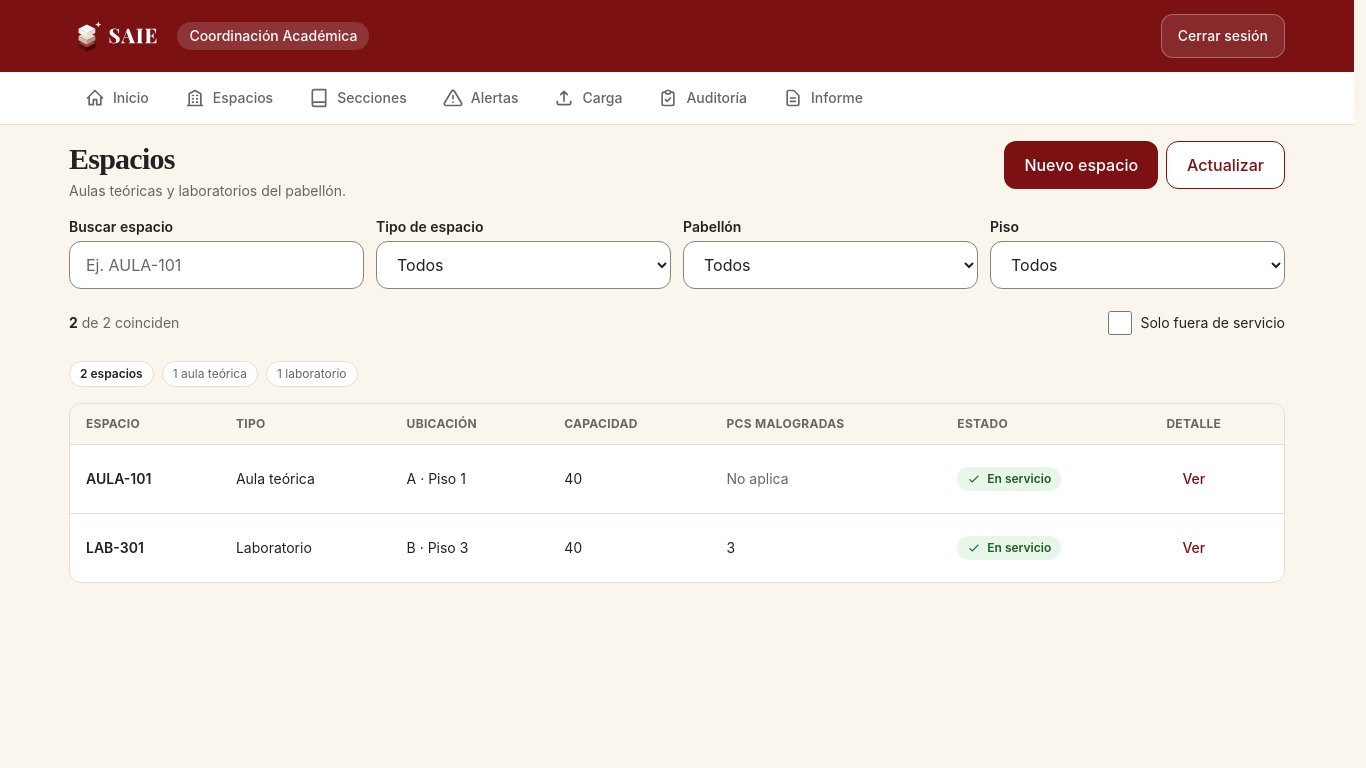
Test: Gestión de espacios (Issue 4.15) › filtra por pabellón y piso, y limpia los filtros
The width and height of the screenshot is (1366, 768).
Expected: the text "AULA-101" is shown, x1=70 y1=444 x2=220 y2=514
Select "B" in the dropdown labelled "Pabellón" at (830, 265), box x1=683 y1=241 x2=978 y2=289
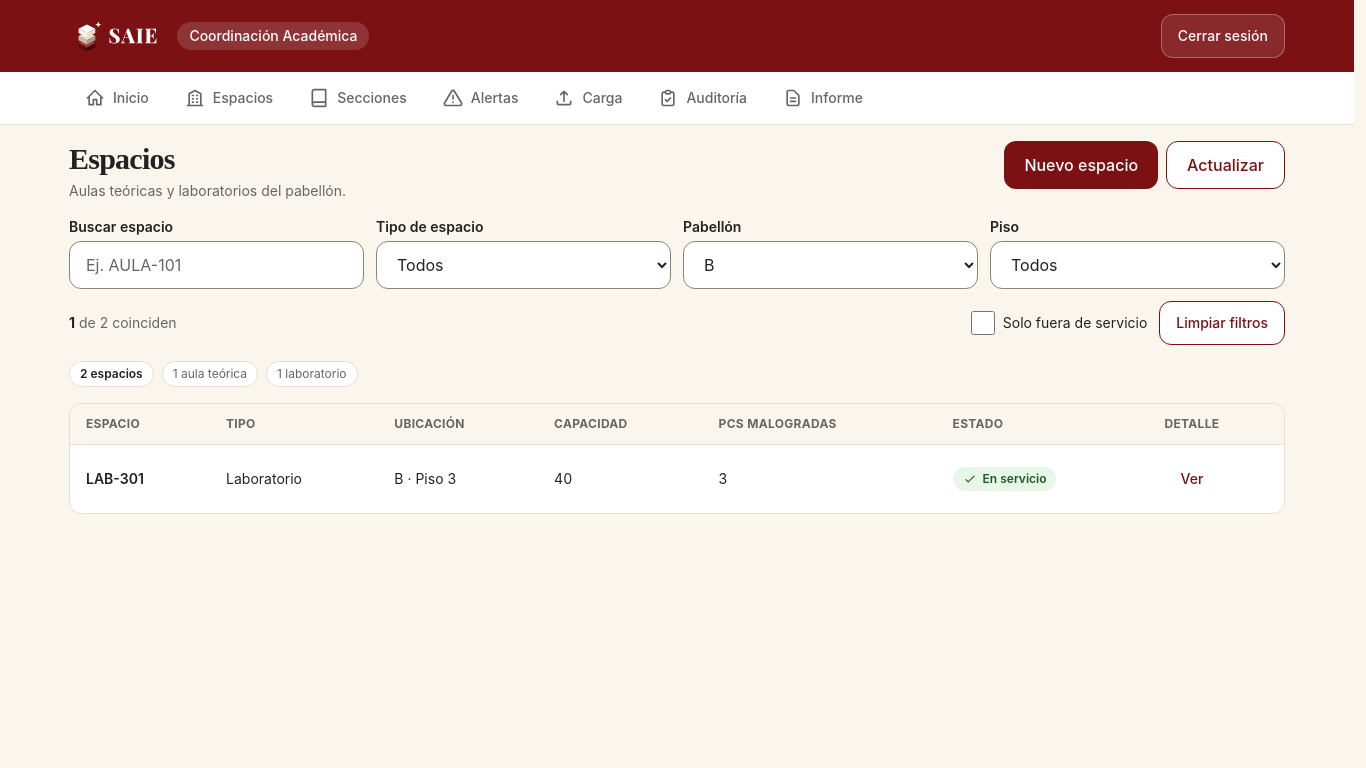
Expected: the text "LAB-301" is shown, x1=70 y1=444 x2=210 y2=513
Expected: the text "1 de 2 coinciden" is shown, x1=69 y1=313 x2=177 y2=333
Select "Piso 3" in the dropdown labelled "Piso" at (1138, 265), box x1=990 y1=241 x2=1285 y2=289
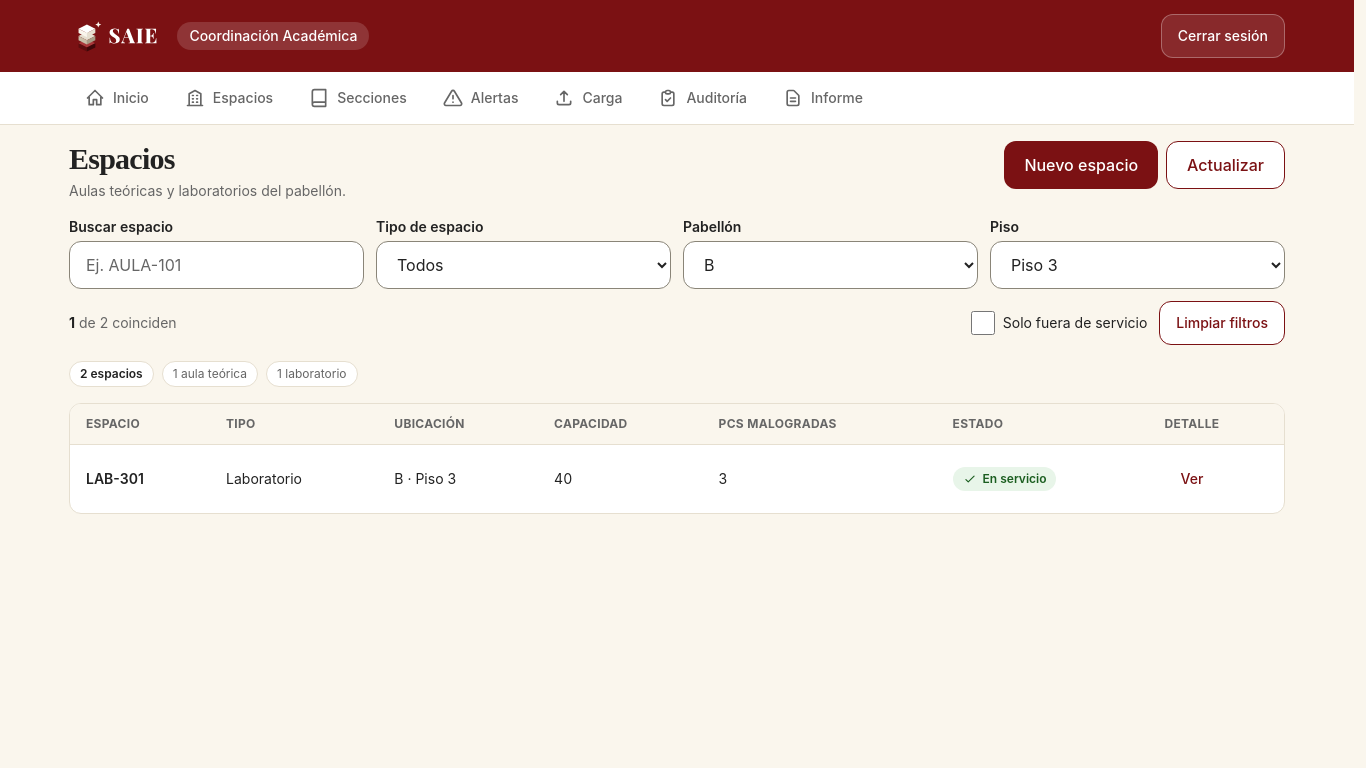
Expected: the text "LAB-301" is shown, x1=70 y1=444 x2=210 y2=513
Click the button "Limpiar filtros" at (1222, 323), box x1=1159 y1=301 x2=1285 y2=345
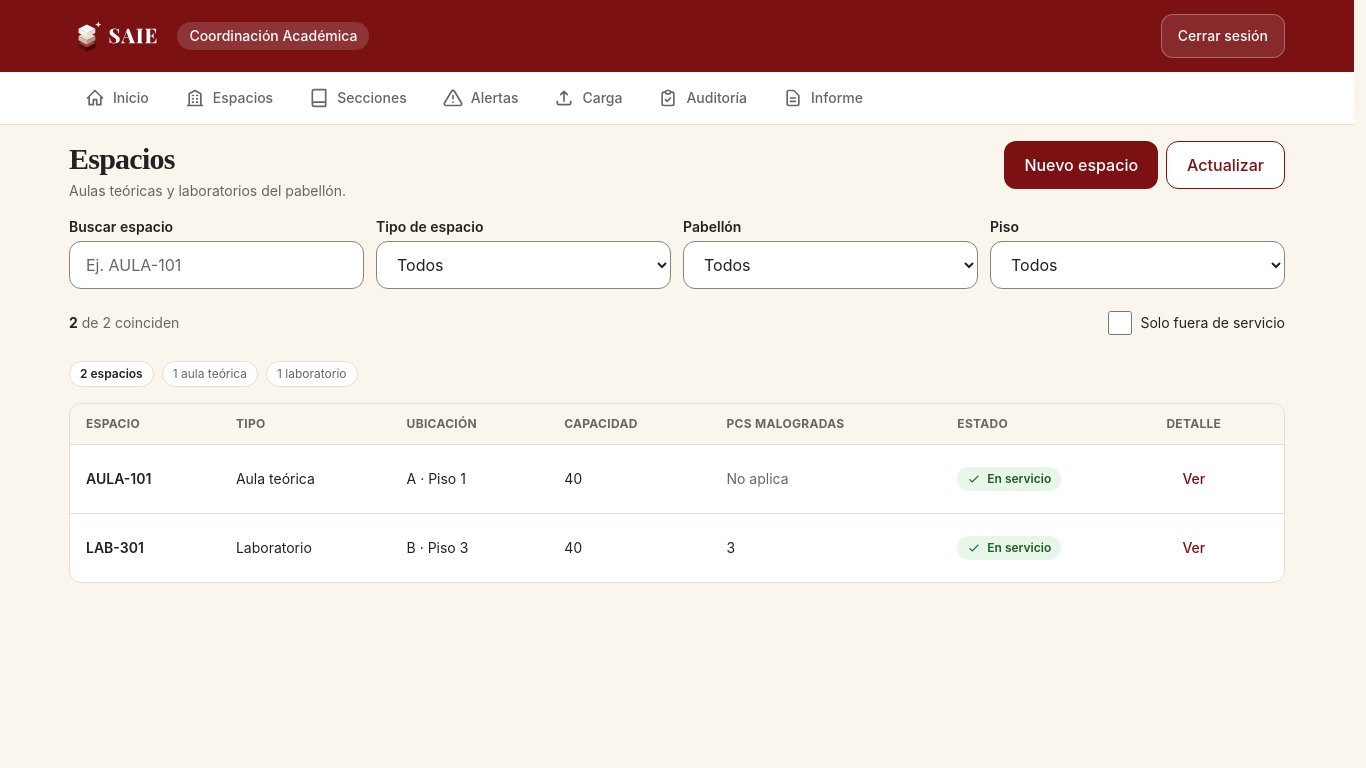
Expected: the text "LAB-301" is shown, x1=70 y1=514 x2=220 y2=582
Expected: the text "AULA-101" is shown, x1=70 y1=444 x2=220 y2=514
